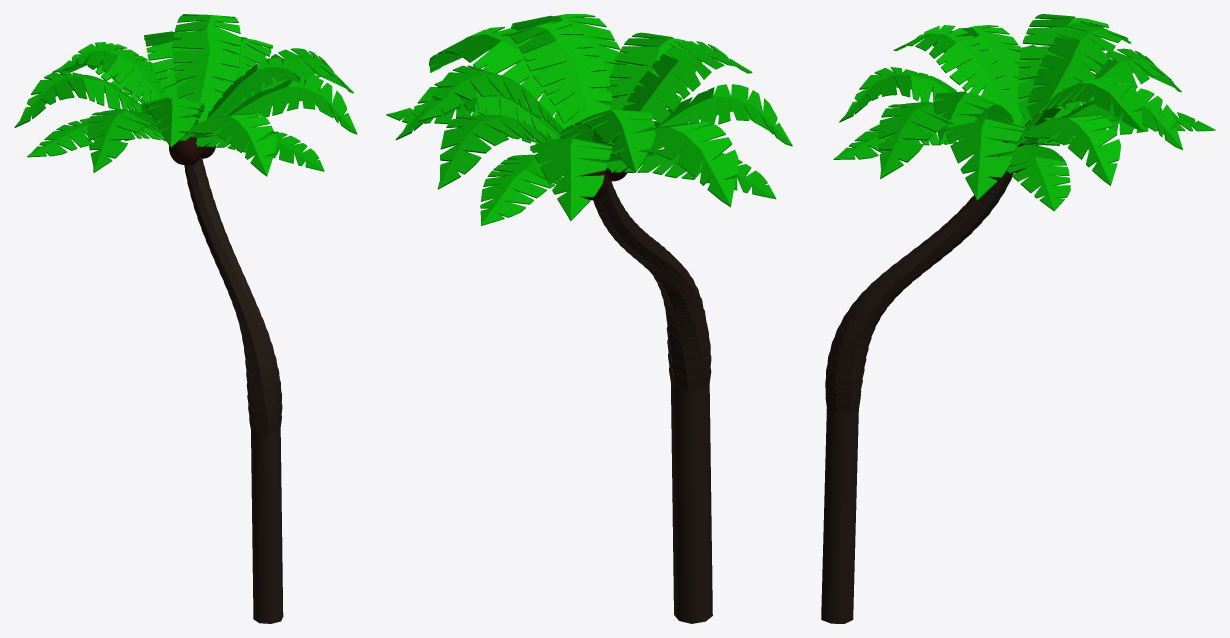
The model's file is palm_tree.obj.
3 renders of one model, left to right at view 1: azimuth 30°, elevation 25°; view 2: azimuth 150°, elevation 25°; view 3: azimuth 270°, elevation 25°, orthographic. The views are drawn at different scales.
Parts seen in each view (by area): view 1: leaves, tronc, noix_de_coco; view 2: leaves, tronc; view 3: leaves, tronc.
Part boxes in pixels (x1=…): leaves: x1=14, y1=14, x2=357, y2=176; tronc: x1=184, y1=157, x2=283, y2=623; noix_de_coco: x1=173, y1=136, x2=201, y2=165; leaves: x1=386, y1=14, x2=792, y2=225; tronc: x1=593, y1=181, x2=712, y2=623; leaves: x1=833, y1=14, x2=1215, y2=211; tronc: x1=821, y1=172, x2=1014, y2=623.
Size of the model in its own units: 15.7 by 24.92 by 15.8.
